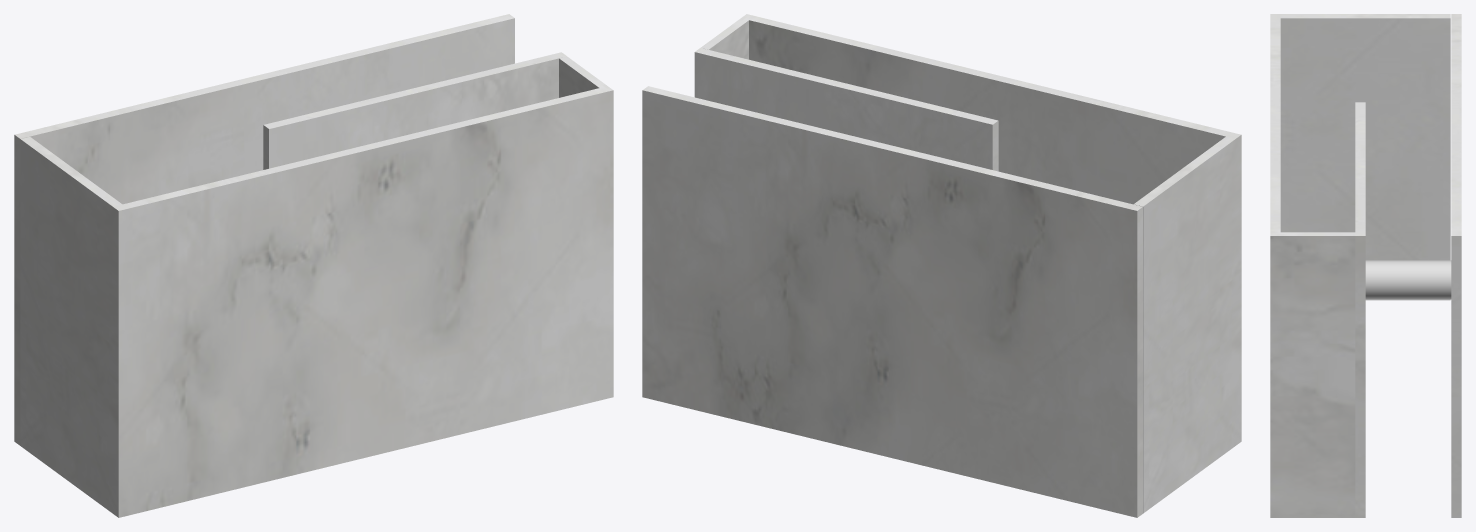
The model's file is Lil table.FBX.
3 views of the same model, side by side, from view 1: azimuth 30°, elevation 25°; view 2: azimuth 150°, elevation 25°; view 3: azimuth 270°, elevation 25° (orthographic). The views are drawn at different scales.
Visible parts, largest first — view 1: Lil table01, Lil table03; view 2: Lil table03, Lil table01; view 3: Lil table01, Lil table03, Lil table02.
Part boxes in pixels (x1,y1,x2,y2): Lil table01: (20,56,613,517); Lil table03: (14,14,566,445); Lil table03: (642,48,1142,517); Lil table01: (700,14,1241,513); Lil table01: (1270,14,1450,517); Lil table03: (1355,14,1461,517); Lil table02: (1365,260,1451,299).
Bounding box in the file's own units: 91.4 × 54.18 × 33.34.
2 materials, 2 textured.
